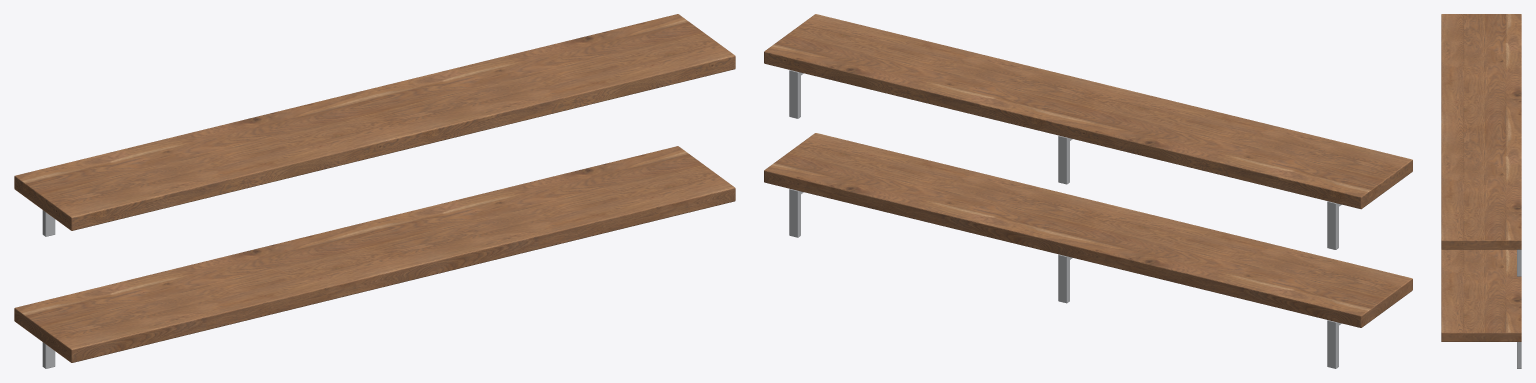
Rendered from wall_shelves.glb.
3 renders of one model, left to right at view 1: azimuth 30°, elevation 25°; view 2: azimuth 150°, elevation 25°; view 3: azimuth 270°, elevation 25°, orthographic. The views are drawn at different scales.
Visible parts, largest first — view 1: WallShelves; view 2: WallShelves; view 3: WallShelves.
Boxes of the visible parts, x1,y1,x2,y2 form: WallShelves: (14, 14, 735, 368); WallShelves: (764, 14, 1412, 368); WallShelves: (1441, 14, 1521, 368).
Size of the model in its own units: 2.4 by 0.684 by 0.36.
2 materials, 1 textured.
